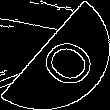O_NW: (18, 22, 92, 88)
